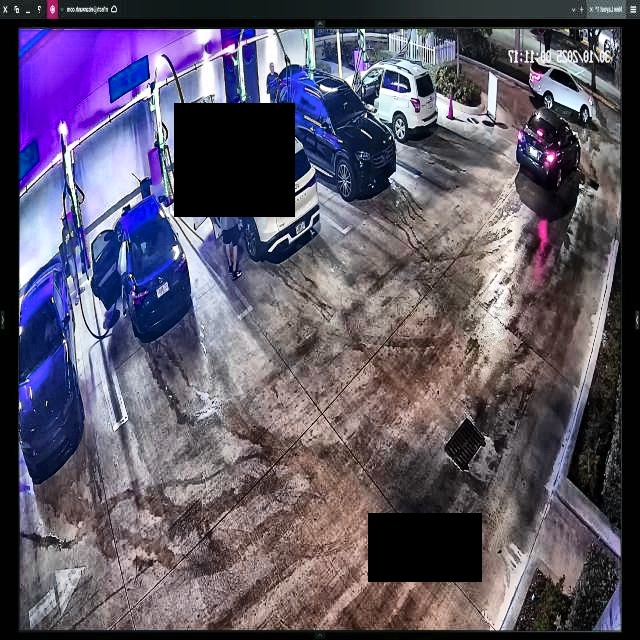Car: (191, 115, 318, 255), (272, 70, 392, 195), (90, 191, 190, 336)
